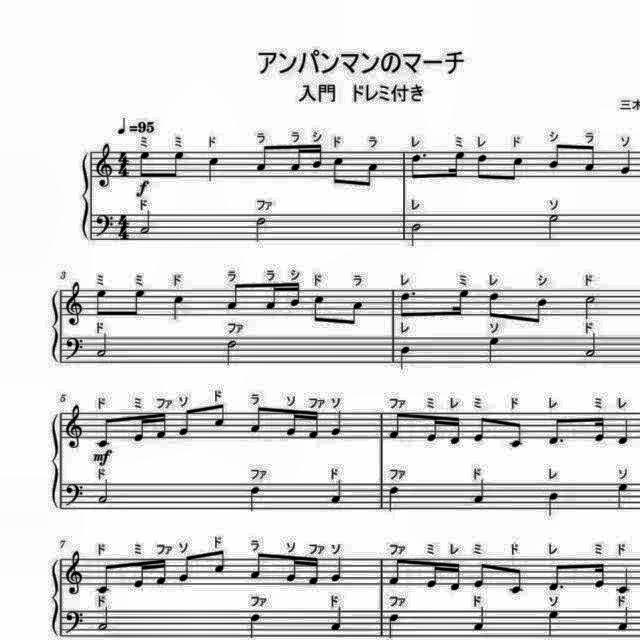Bass-clef: (64, 608, 88, 638), (62, 336, 86, 364), (64, 480, 86, 510), (94, 210, 115, 238)
Eighth-note: (92, 413, 114, 449), (93, 560, 115, 596), (529, 294, 551, 328), (309, 292, 329, 328), (344, 296, 366, 328), (127, 288, 149, 320), (358, 158, 380, 190), (254, 142, 276, 174), (328, 155, 348, 189), (548, 559, 568, 593), (223, 281, 244, 313), (168, 147, 188, 180), (408, 150, 428, 182), (470, 412, 490, 444), (248, 550, 268, 582), (248, 404, 268, 436), (396, 288, 416, 320), (548, 416, 568, 448), (508, 153, 528, 184), (473, 151, 492, 183), (177, 554, 196, 586), (134, 148, 154, 178), (177, 407, 195, 439), (471, 558, 489, 590), (90, 286, 108, 318), (506, 564, 524, 596), (485, 288, 503, 320), (548, 140, 566, 172), (582, 142, 600, 174), (385, 556, 403, 588), (385, 410, 403, 442), (506, 420, 524, 450), (211, 548, 229, 578), (211, 401, 229, 431)
Half-note: (543, 212, 561, 244), (96, 604, 114, 634), (253, 213, 271, 243), (222, 339, 240, 369), (582, 294, 600, 322), (583, 332, 601, 360), (94, 332, 112, 360), (408, 222, 426, 250), (138, 208, 154, 236), (96, 478, 112, 506)
Quarter-note: (614, 567, 634, 597), (204, 153, 223, 184), (329, 554, 347, 586), (485, 334, 503, 366), (246, 484, 264, 514), (619, 148, 637, 178), (327, 603, 345, 633), (616, 416, 634, 446), (246, 611, 264, 640), (327, 478, 345, 507), (384, 483, 401, 513), (471, 606, 489, 634), (170, 294, 188, 322), (472, 477, 490, 505), (616, 481, 632, 511), (546, 609, 562, 639), (329, 409, 346, 437), (544, 489, 560, 518), (616, 606, 632, 634), (386, 612, 402, 640), (396, 344, 412, 372)
Sixteenth-note: (450, 286, 472, 318), (262, 282, 282, 314), (446, 148, 466, 180), (131, 558, 149, 592), (286, 144, 304, 176), (423, 558, 441, 590), (132, 412, 148, 446), (448, 413, 464, 447), (307, 408, 323, 442), (282, 555, 300, 585), (424, 412, 441, 443), (152, 410, 168, 442), (153, 555, 169, 587), (446, 560, 462, 592), (592, 558, 608, 590), (304, 556, 320, 588), (286, 279, 302, 309), (282, 409, 298, 439), (592, 414, 608, 444), (310, 145, 326, 173)
Treble-clef: (64, 403, 88, 452), (64, 280, 88, 328), (64, 550, 88, 598), (91, 143, 112, 193)
